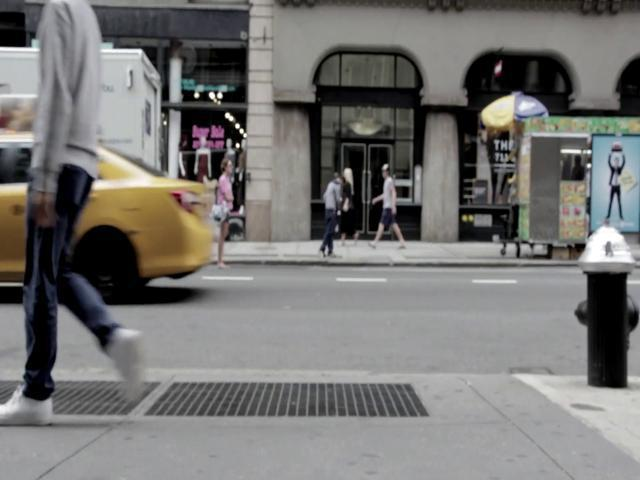shoe: (108, 328, 141, 400), (1, 385, 52, 425)
